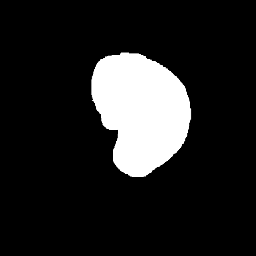mass: (90, 56, 189, 179)
